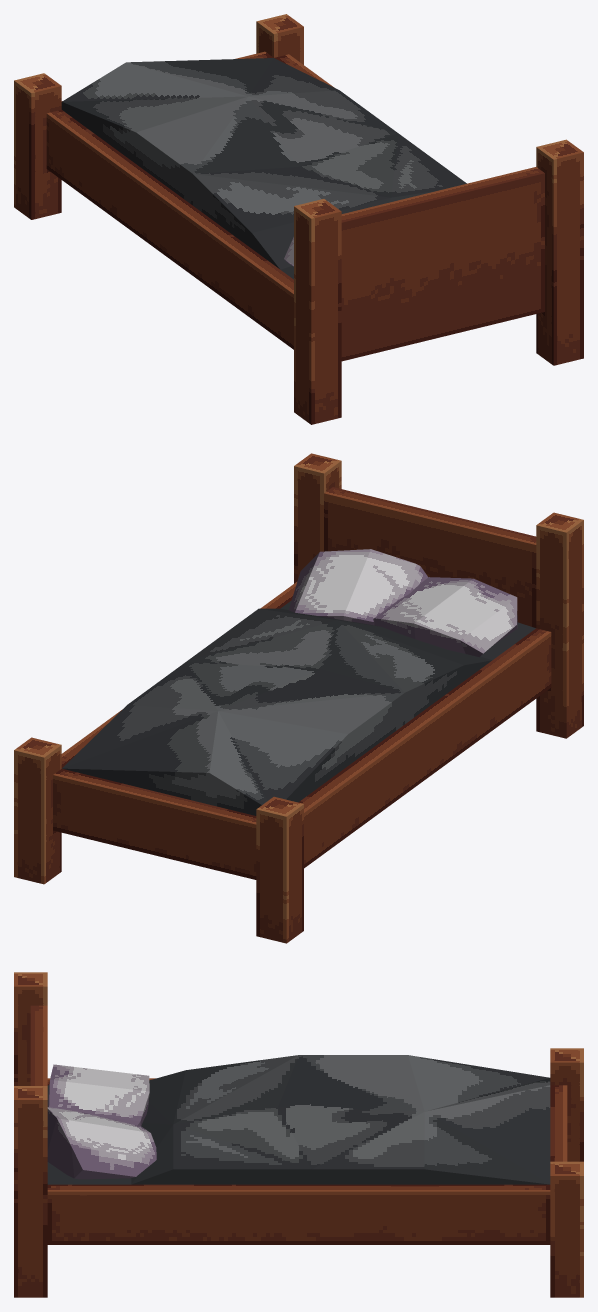
Rendered from bed.gltf.
3 views of the same model, one above another, from view 1: azimuth 30°, elevation 25°; view 2: azimuth 150°, elevation 25°; view 3: azimuth 270°, elevation 25° (orthographic). The views are drawn at different scales.
Parts seen in each view (by area): view 1: bedframe, blanket; view 2: bedframe, blanket, pillow1, pillow2; view 3: bedframe, blanket, pillow2, pillow1.
Boxes of the visible parts, box(x1,y1,x2,y2) form: bedframe: box(14, 14, 583, 424); blanket: box(61, 58, 466, 279); bedframe: box(14, 453, 583, 943); blanket: box(62, 600, 535, 815); pillow1: box(373, 577, 517, 657); pillow2: box(289, 549, 428, 625); bedframe: box(14, 972, 583, 1297); blanket: box(47, 1055, 550, 1184); pillow2: box(47, 1107, 156, 1179); pillow1: box(47, 1064, 149, 1125).
Size of the model in its own units: 1.12 by 0.8125 by 2.12.
Materials: 1 (1 with a texture image).
